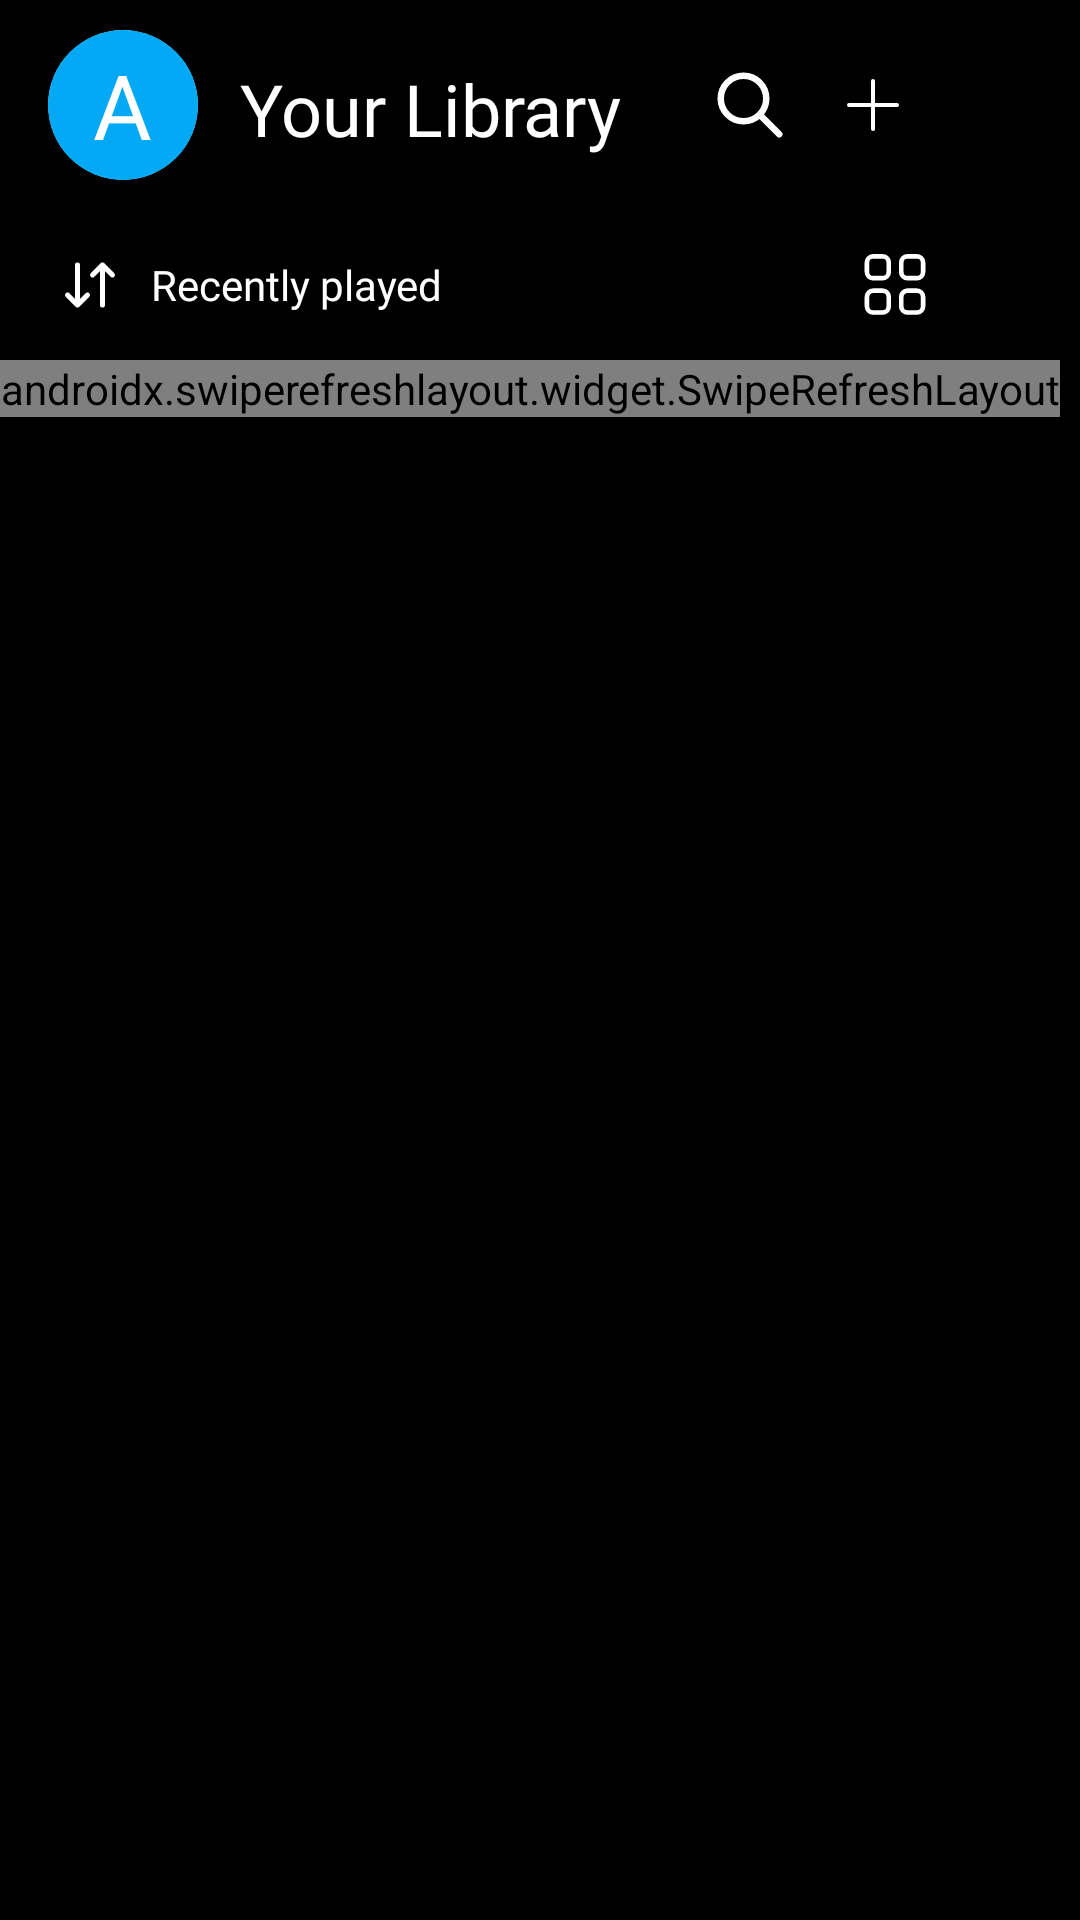

Where icons sit on this 1080px×1920px app screen, as [x1=x1, y1=y1, x2=x2, y2=y2]:
arrow down up: [x1=65, y1=262, x2=115, y2=308]
plus: [x1=847, y1=79, x2=899, y2=131]
search: [x1=717, y1=72, x2=783, y2=138]
